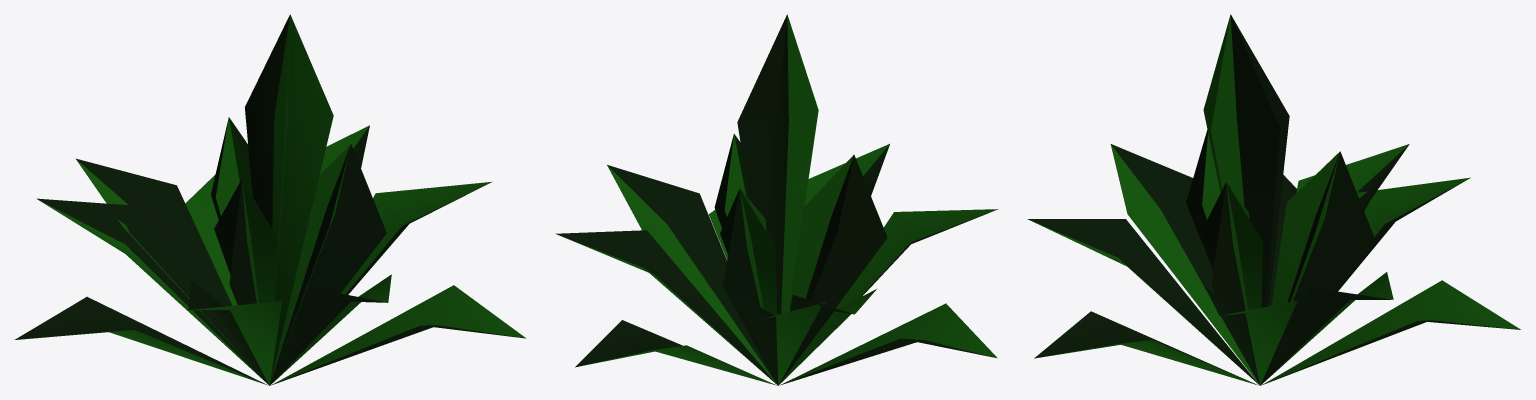
File: grass d.FBX
3 views of the same model, side by side, from view 1: azimuth 30°, elevation 25°; view 2: azimuth 150°, elevation 25°; view 3: azimuth 270°, elevation 25° (orthographic). The views are drawn at different scales.
Visible parts, largest first — view 1: grass d; view 2: grass d; view 3: grass d.
Boxes of the visible parts, x1,y1,x2,y2 form: grass d: [15, 14, 526, 385]; grass d: [555, 14, 998, 385]; grass d: [1027, 14, 1520, 385].
Bounding box in the file's own units: 1.17 × 1.14 × 0.9568.
